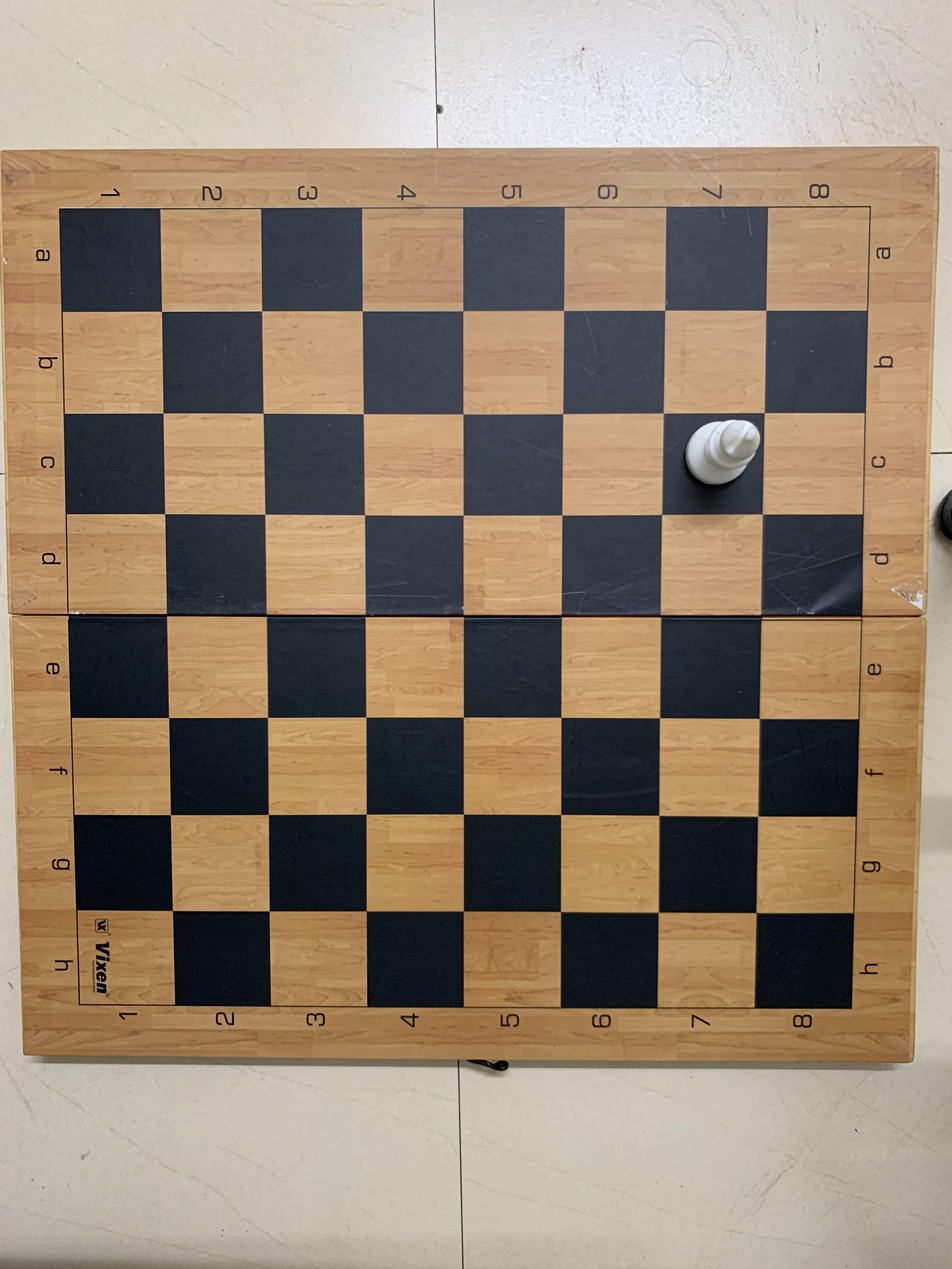white_bishop: (663, 415, 764, 518)
